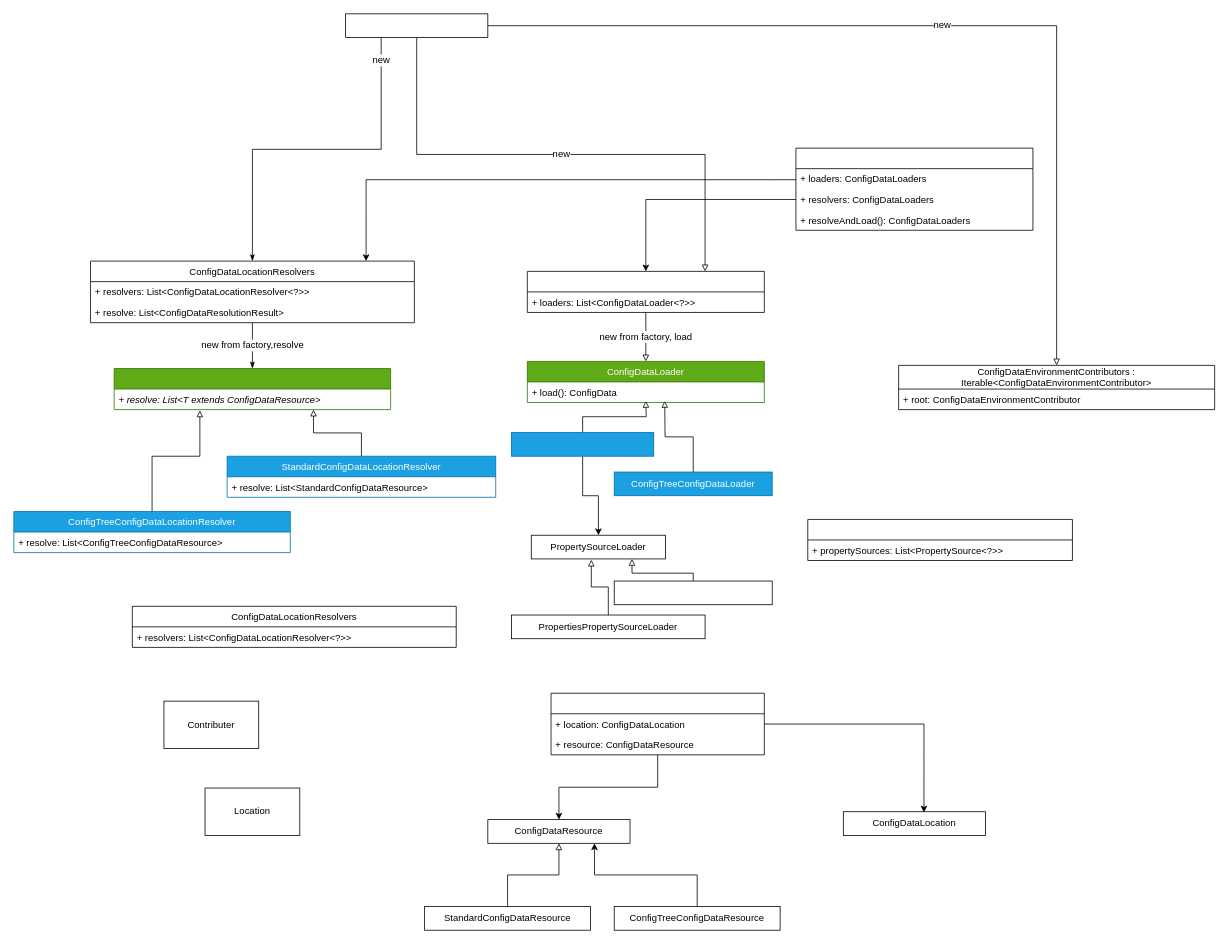
Image size: 1228x944. Some labels were removed from this diagram. Each missing label, with the box of its shape:
ConfigData: (807, 519, 1072, 561)
ConfigDataEnvironment: (345, 13, 488, 38)
ConfigDataImporter: (795, 147, 1033, 230)
ConfigDataLoaders: (527, 271, 764, 312)
ConfigDataLocationResolver: (113, 368, 391, 410)
ConfigDataResolutionResult: (550, 692, 764, 755)
StandardConfigDataLoader: (511, 432, 654, 456)
YamlPropertySourceLoader: (613, 580, 772, 605)
